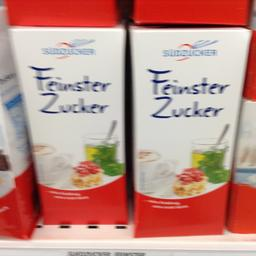sugar: (128, 26, 251, 239), (7, 24, 127, 225)
